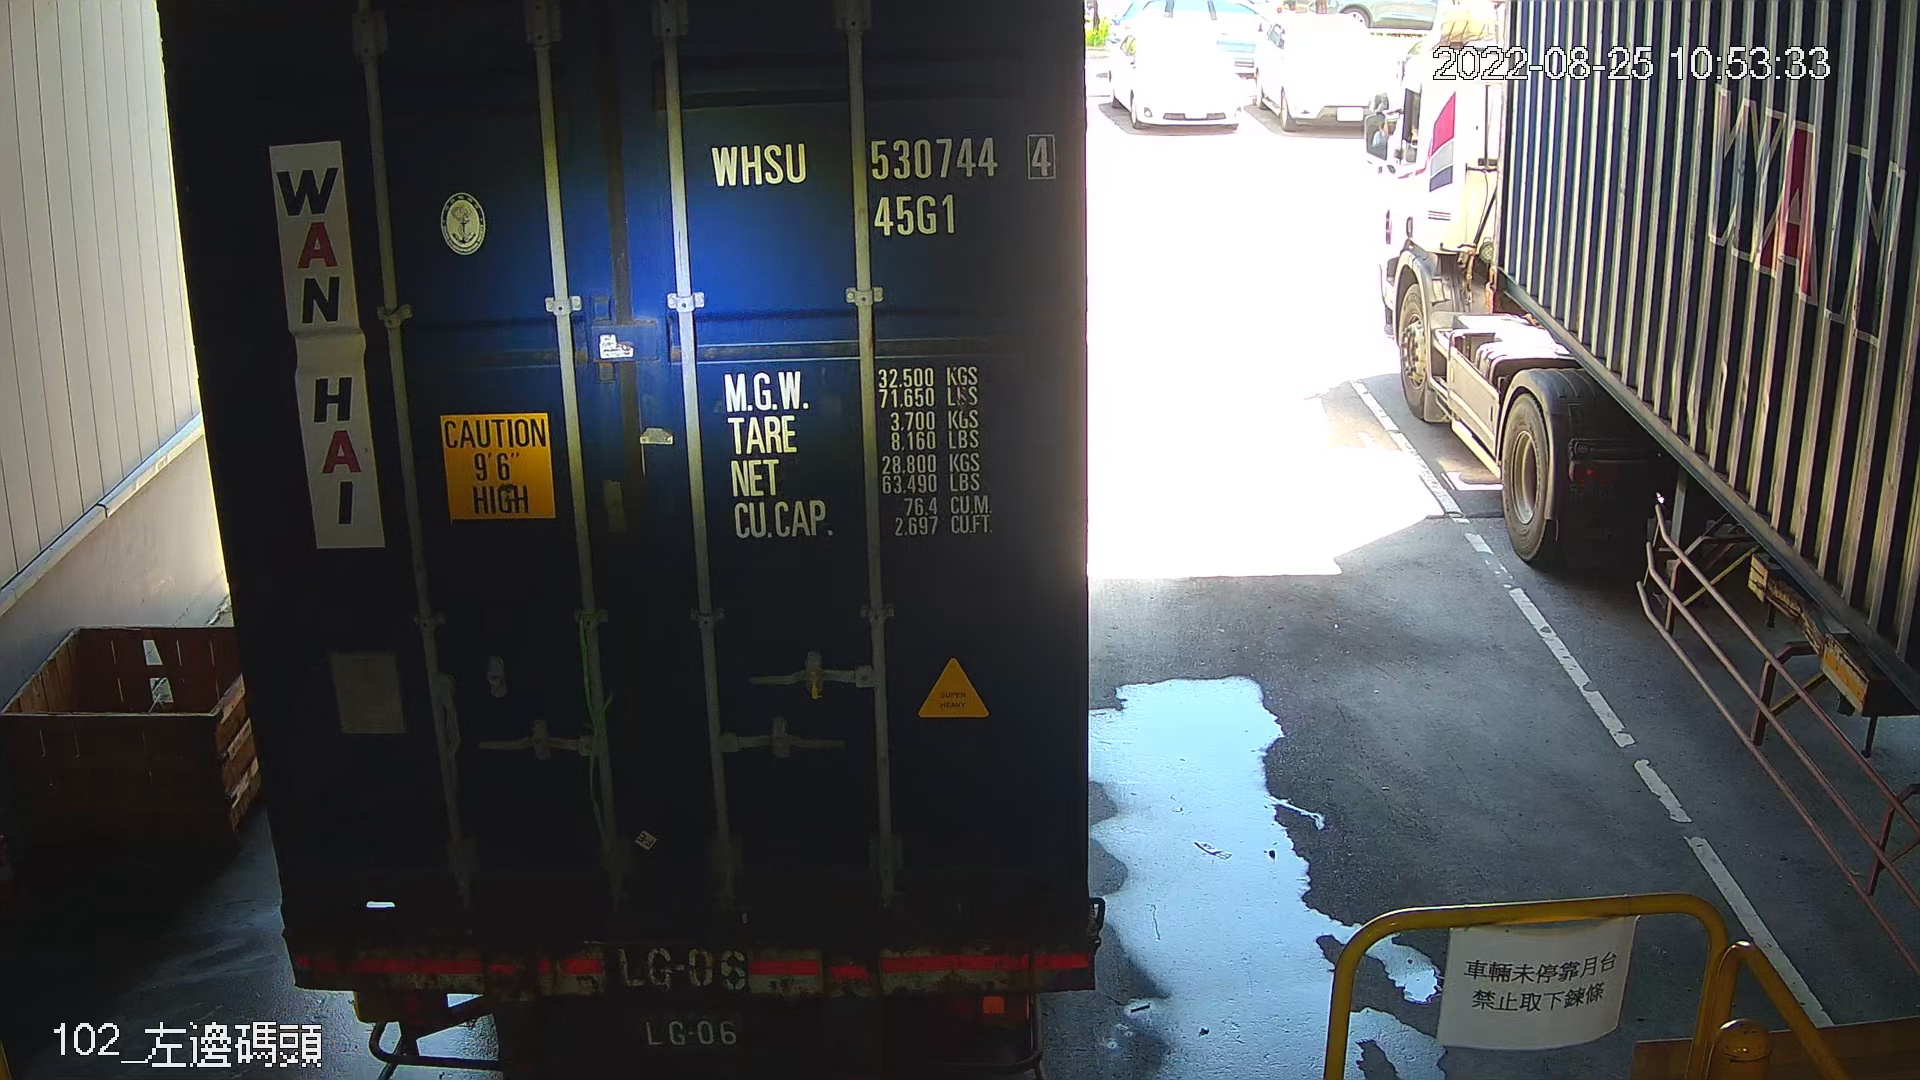container: (695, 124, 1065, 258)
